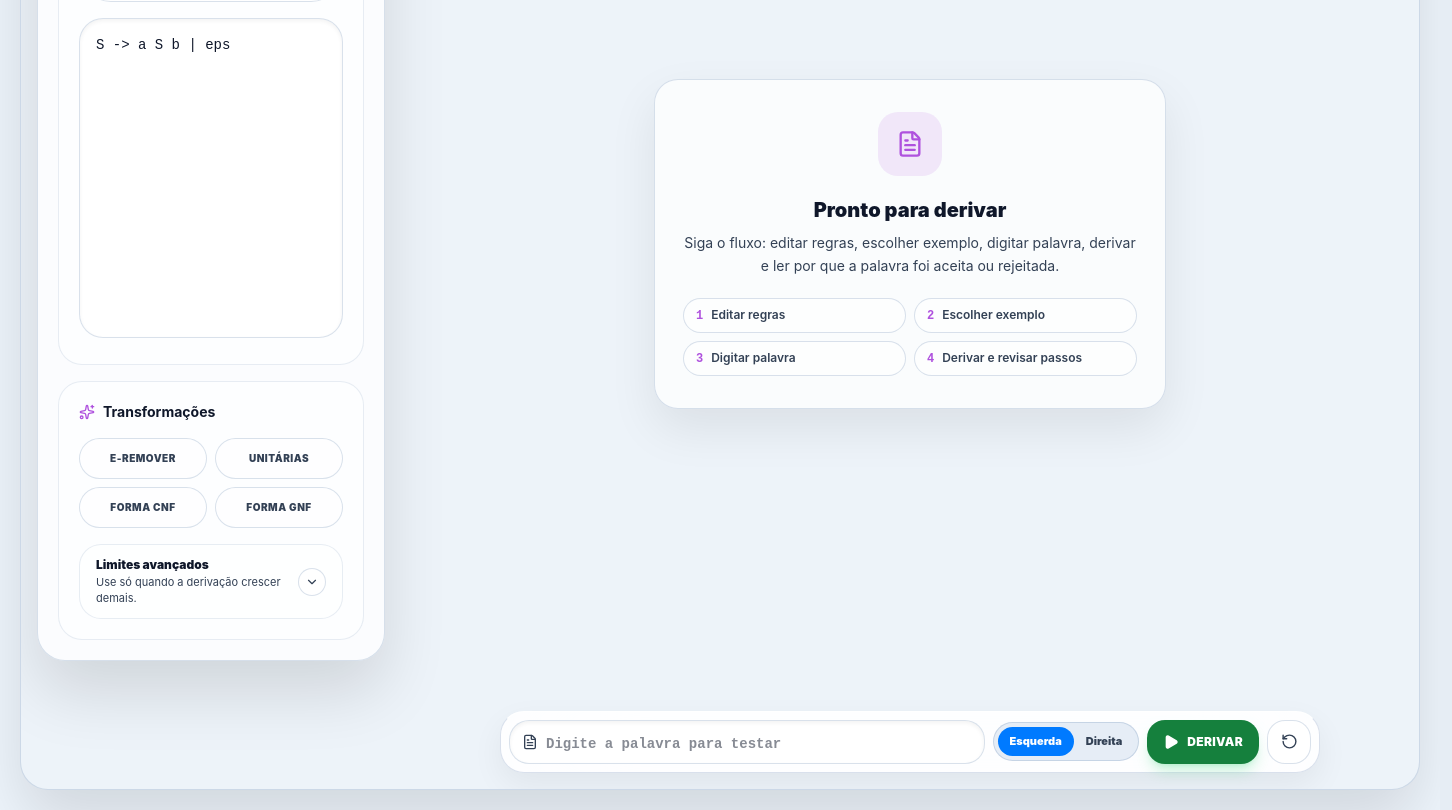
Scenario: GrammarWorkspace › mantém limites técnicos recolhidos fora do fluxo principal
(page scrolled)
Click the button with aria-label "Mostrar limites avançados da busca": coordinates (211, 582) [80, 545, 342, 618]
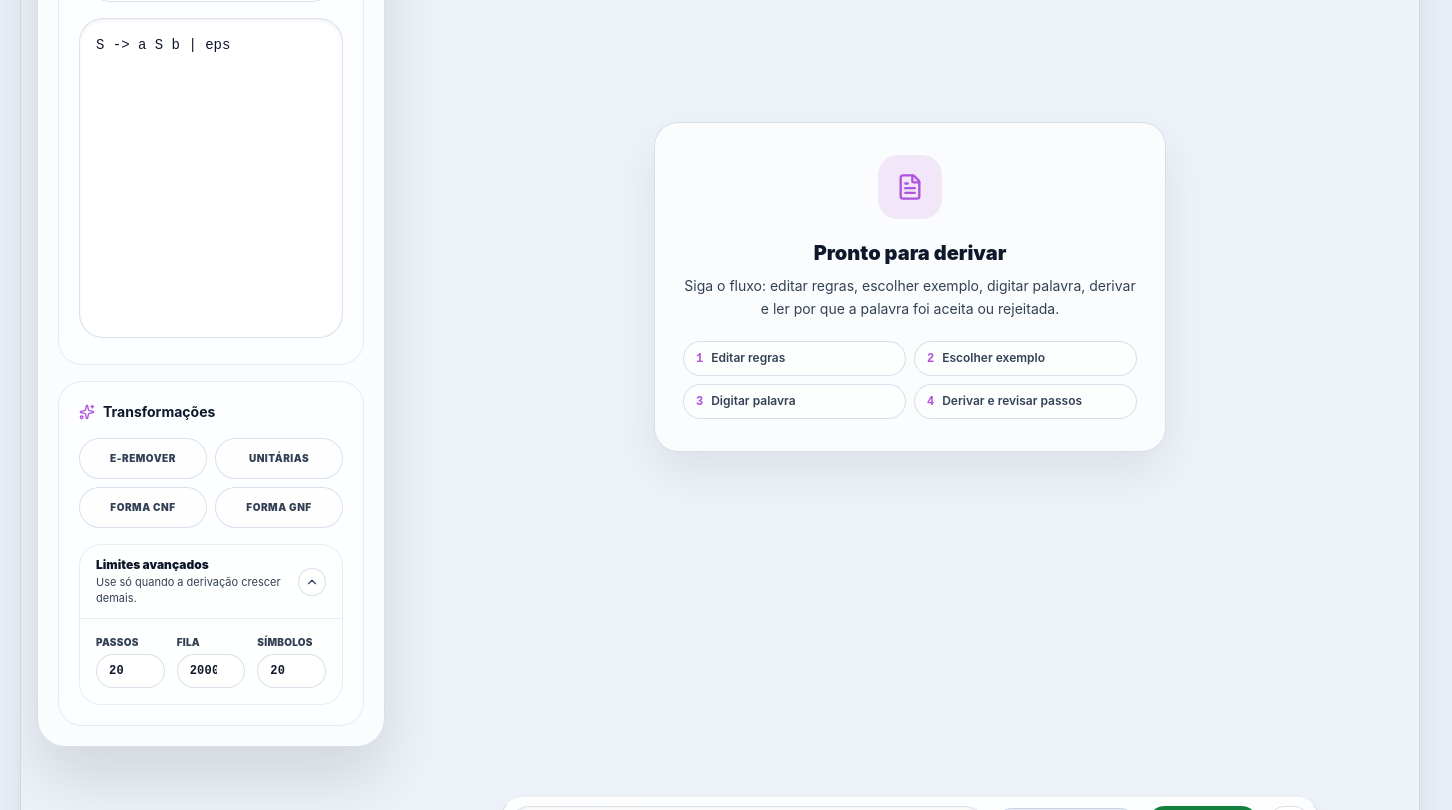
Result: the number field named "Passos máximos da busca" is shown at [96, 654, 165, 688]
Result: the number field named "Tamanho máximo da fila" is shown at [177, 654, 245, 688]
Result: the number field named "Máximo de símbolos por forma sentencial" is shown at [257, 654, 326, 688]
